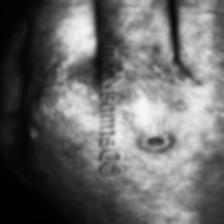Toxin: (156, 60, 211, 82), (141, 131, 169, 153)
